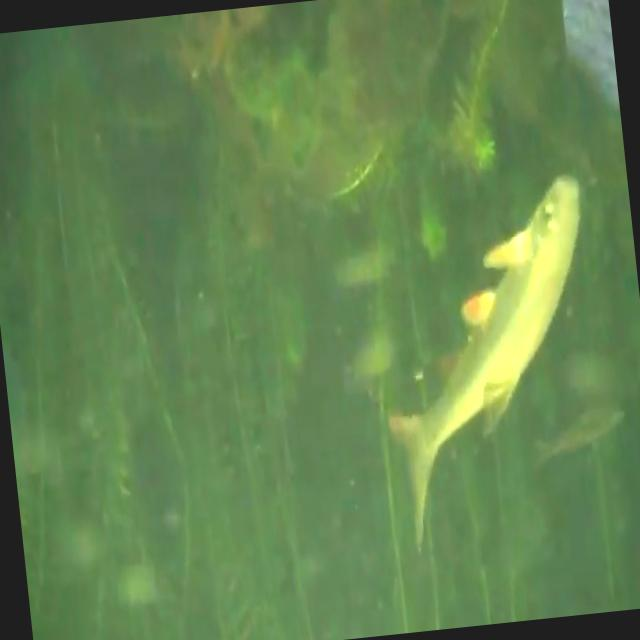Cakil Baligi: (367, 167, 615, 560)
